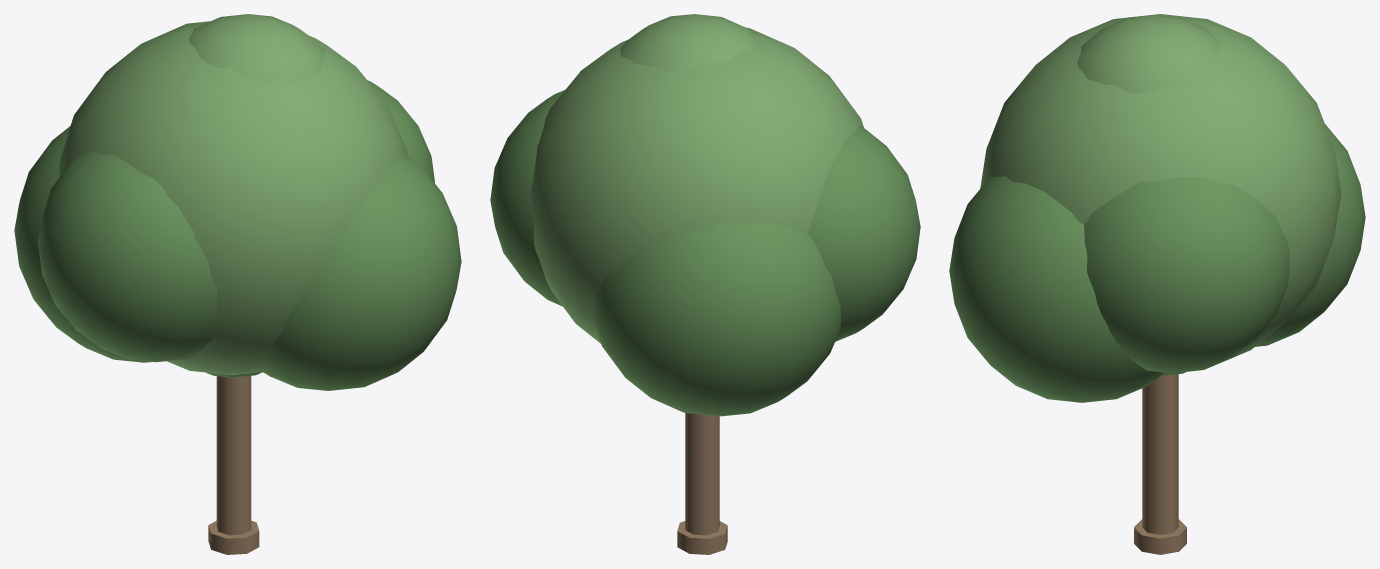
File: oak_tree.glb
3 renders of one model, left to right at view 1: azimuth 30°, elevation 25°; view 2: azimuth 150°, elevation 25°; view 3: azimuth 270°, elevation 25°, orthographic.
Visible parts, largest first — view 1: canopy_main, canopy_left, canopy_front, canopy_top, trunk, canopy_back, canopy_right, root_flare; view 2: canopy_main, canopy_back, canopy_left, canopy_right, canopy_top, trunk, root_flare; view 3: canopy_main, canopy_right, canopy_front, canopy_top, trunk, canopy_back, root_flare.
Boxes of the visible parts, x1,y1,x2,y2 form: canopy_main: (59, 21, 407, 374); canopy_left: (38, 152, 216, 362); canopy_front: (260, 155, 461, 390); canopy_top: (188, 14, 325, 82); trunk: (216, 376, 251, 535); canopy_back: (14, 126, 151, 362); canopy_right: (368, 80, 434, 182); root_flare: (208, 520, 259, 554); canopy_main: (531, 27, 863, 343); canopy_back: (592, 222, 840, 416); canopy_left: (808, 125, 920, 341); canopy_right: (490, 90, 564, 306); canopy_top: (620, 14, 757, 70); trunk: (685, 413, 719, 535); root_flare: (677, 521, 727, 554); canopy_main: (980, 14, 1341, 372); canopy_right: (1084, 177, 1289, 373); canopy_front: (949, 176, 1164, 402); canopy_top: (1077, 15, 1219, 93); trunk: (1142, 374, 1178, 534); canopy_back: (1255, 124, 1365, 346); root_flare: (1134, 519, 1186, 554).
Size of the model in its own units: 3.7 by 4.8 by 3.45.
